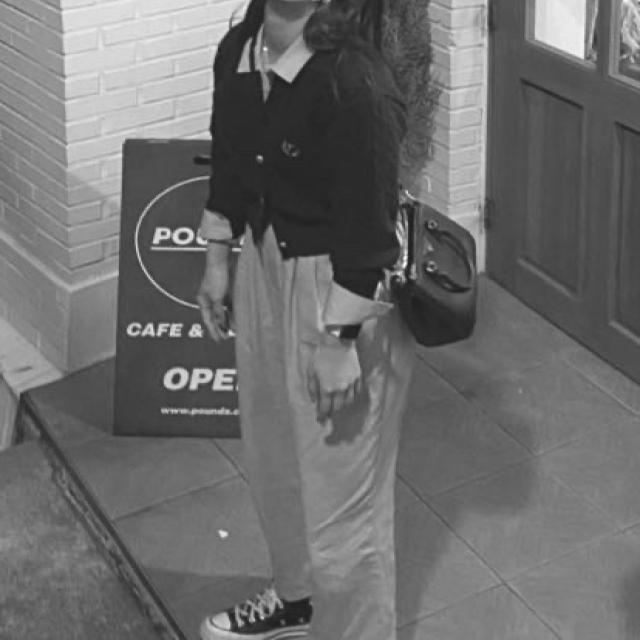cardigan: (199, 18, 406, 334)
cottonpants: (234, 212, 406, 640)
